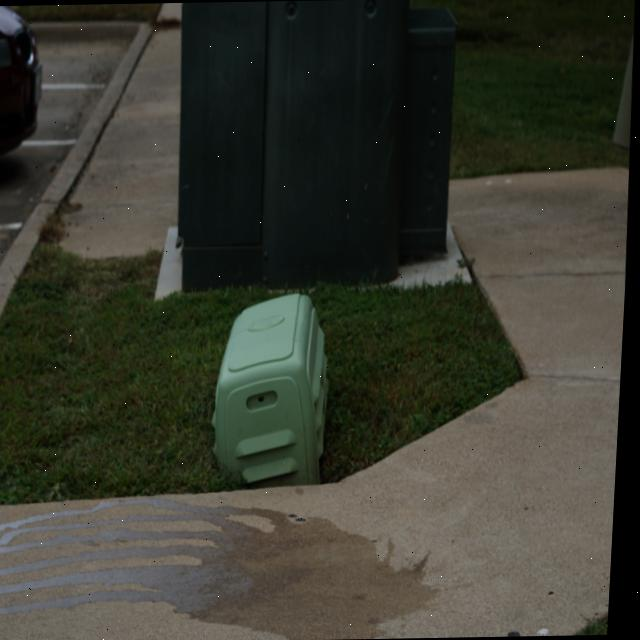Automobile: (0, 5, 43, 155)
Obstacle: (181, 0, 455, 290), (217, 293, 331, 485), (614, 28, 634, 148)
Sidewalk: (0, 167, 631, 640), (24, 2, 180, 249)
